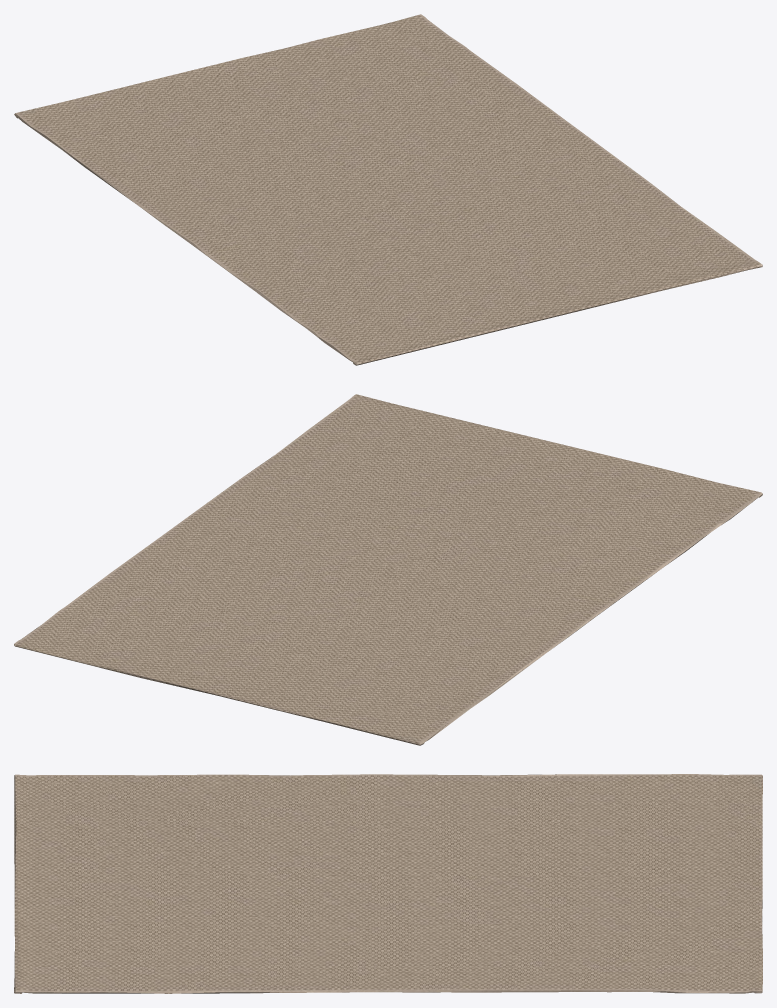
The picture shows the model from 3 angles, top to bottom: view 1: azimuth 30°, elevation 25°; view 2: azimuth 150°, elevation 25°; view 3: azimuth 270°, elevation 25°; orthographic projection. The views are drawn at different scales.
Parts seen in each view (by area): view 1: ProcessedMeshNode; view 2: ProcessedMeshNode; view 3: ProcessedMeshNode.
Boxes of the visible parts, <box> form: ProcessedMeshNode: <box>14,14,762,365</box>; ProcessedMeshNode: <box>14,394,762,745</box>; ProcessedMeshNode: <box>14,774,762,993</box>.
Size of the model in its own units: 1.59 by 0.0153 by 2.32.
Materials: 1 (1 with a texture image).
